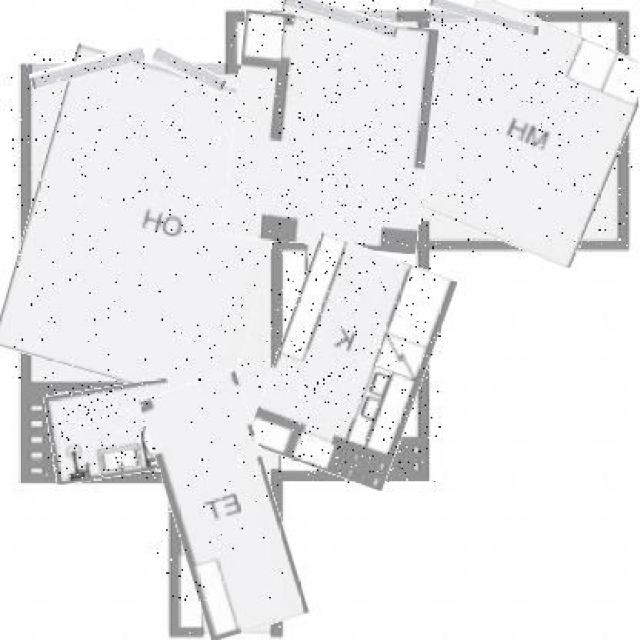window: (281, 0, 398, 35), (29, 52, 145, 83), (429, 5, 538, 28), (150, 56, 228, 86)
zone: (11, 57, 289, 397), (412, 8, 637, 254), (229, 14, 434, 249), (263, 242, 442, 483), (157, 375, 292, 637), (46, 385, 177, 480)
